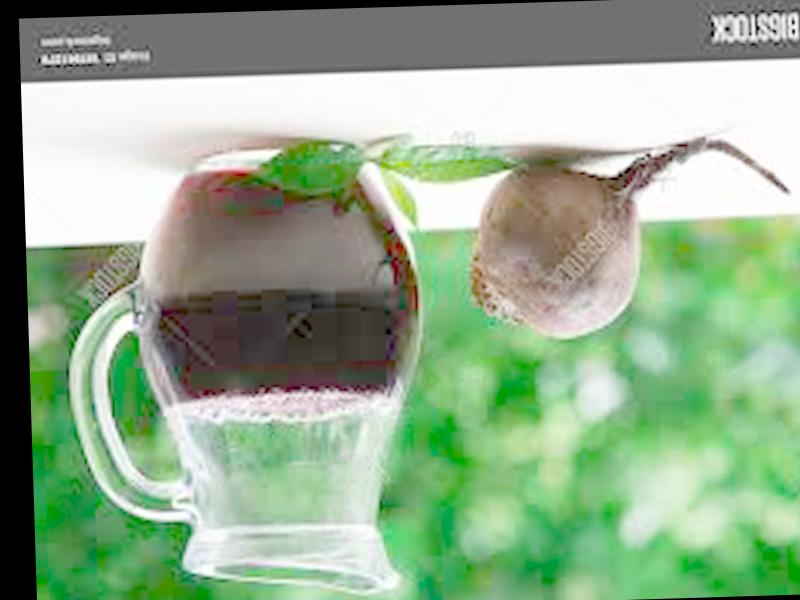Beet: (468, 133, 791, 338)
